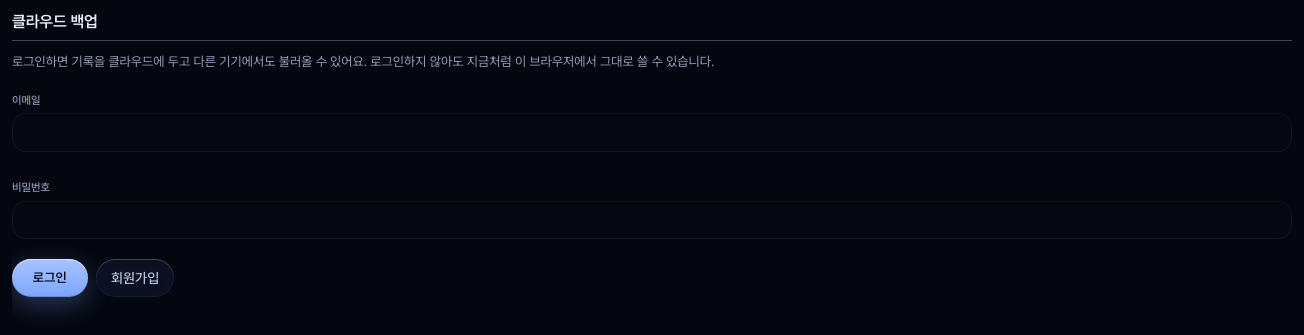
Test: CloudSyncPanel › switches to the sign-up form with the 회원가입 button
Click the button "회원가입".
click(135, 278)  # box [96,259,174,297]
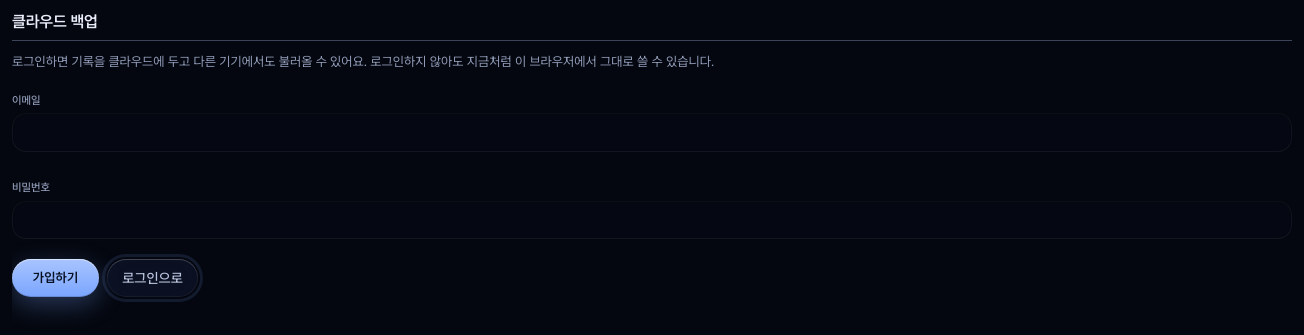
Expected: the button "가입하기" is shown, [12,259,99,297]
Expected: the button "로그인으로" is shown, [107,259,198,297]
